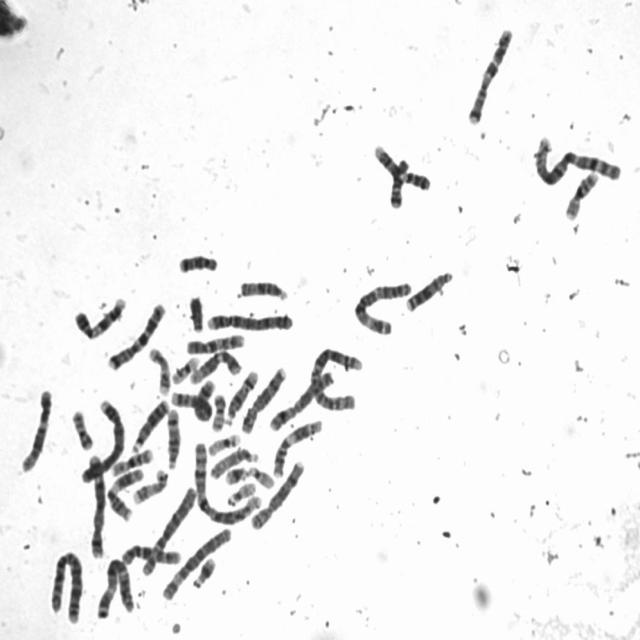A1: (190, 437, 264, 528), (532, 133, 624, 187)
A2: (306, 342, 364, 412), (46, 546, 85, 626)
A3: (350, 276, 413, 336), (93, 554, 136, 620)
B4: (78, 394, 127, 484), (204, 308, 294, 333)
B5: (83, 447, 106, 560), (170, 374, 217, 424)
C10: (183, 329, 248, 356), (118, 540, 182, 566)
C11: (271, 415, 325, 479), (103, 463, 145, 522)
C12: (18, 384, 55, 474), (187, 346, 244, 386)
C6: (159, 523, 234, 602), (138, 481, 198, 578)
C7: (464, 23, 515, 127), (104, 297, 168, 372)
C8: (248, 456, 306, 532), (238, 362, 288, 435)
C9: (370, 140, 433, 192), (70, 292, 128, 341)
D13: (128, 394, 171, 454), (403, 266, 455, 313)
D14: (222, 365, 260, 426), (163, 404, 183, 470)
D15: (207, 443, 260, 481), (235, 276, 290, 303)
E16: (562, 167, 601, 220), (108, 444, 155, 477)
E17: (130, 464, 170, 506), (145, 343, 171, 397)
E18: (388, 154, 410, 210), (176, 249, 220, 275)
F19: (169, 352, 201, 385), (205, 429, 242, 457)
F20: (68, 405, 96, 452), (208, 389, 227, 433)
G21: (189, 552, 218, 590), (222, 461, 248, 486)
G22: (224, 478, 257, 508), (244, 461, 276, 490)
X: (266, 366, 337, 433)
Y: (186, 291, 205, 334)
